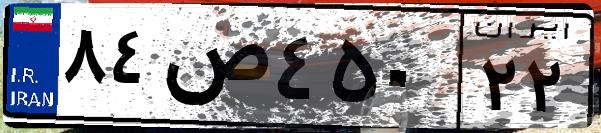0: (385, 28, 445, 110)
2: (475, 38, 525, 113), (525, 38, 570, 115)
4: (270, 28, 330, 110), (110, 28, 158, 98)
5: (330, 28, 385, 110)
8: (57, 26, 110, 100)
ص: (158, 20, 270, 120)
